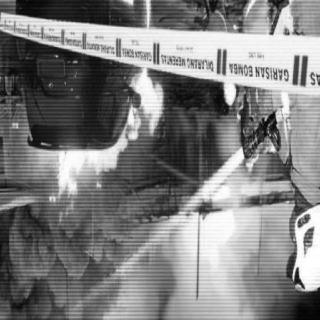other: (242, 2, 319, 290)
